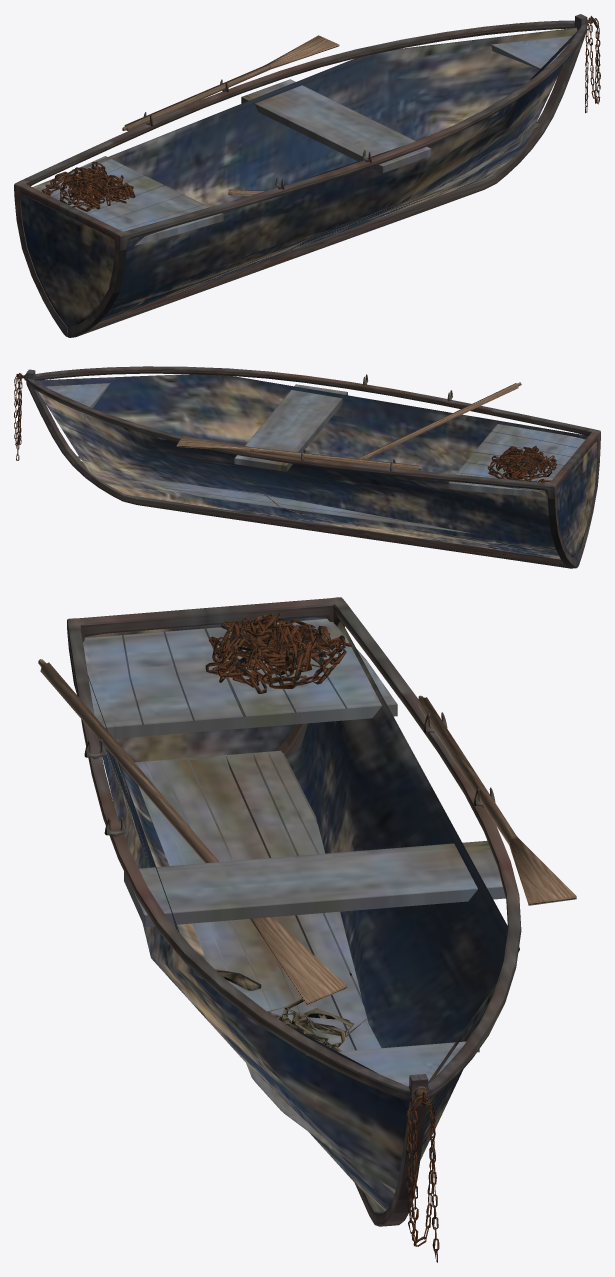
File: boat.glb
3 renders of one model, top to bottom at view 1: azimuth 30°, elevation 25°; view 2: azimuth 150°, elevation 25°; view 3: azimuth 270°, elevation 25°, orthographic. The views are drawn at different scales.
Visible parts, largest first — view 1: PaintedWood_main_body_2, Rust_metal_10, top_plank_1, back_3, Pile_Of_uc1ufamhx_chain_1 _8, hand_pedal_4, Rusty_Hanging_wcwsfhodw_front_chain _11; view 2: PaintedWood_main_body_2, Rust_metal_10, top_plank_1, back_3, Bottom_plank_0, Pile_Of_uc1ufamhx_chain_1 _8, hand_pedal_4, handel.001_6, Rusty_Hanging_wcwsfhodw_front_chain _11; view 3: PaintedWood_main_body_2, top_plank_1, Bottom_plank_0, Rust_metal_10, Pile_Of_uc1ufamhx_chain_1 _8, handel.001_6, back_3, hand_pedal_4, Rusty_Hanging_wcwsfhodw_front_chain _11, rope_12.
Boxes of the visible parts, left/top/right/bottom form: PaintedWood_main_body_2: left=32, top=27, right=579, bottom=322; Rust_metal_10: left=14, top=14, right=587, bottom=337; top_plank_1: left=36, top=36, right=571, bottom=245; back_3: left=20, top=195, right=114, bottom=327; Pile_Of_uc1ufamhx_chain_1 _8: left=41, top=161, right=135, bottom=211; hand_pedal_4: left=122, top=35, right=339, bottom=131; Rusty_Hanging_wcwsfhodw_front_chain _11: left=585, top=17, right=600, bottom=113; PaintedWood_main_body_2: left=34, top=374, right=588, bottom=559; Rust_metal_10: left=26, top=366, right=600, bottom=568; top_plank_1: left=38, top=383, right=585, bottom=497; back_3: left=556, top=441, right=597, bottom=559; Bottom_plank_0: left=75, top=456, right=472, bottom=533; Pile_Of_uc1ufamhx_chain_1 _8: left=487, top=446, right=556, bottom=487; hand_pedal_4: left=176, top=435, right=421, bottom=471; handel.001_6: left=354, top=382, right=521, bottom=464; Rusty_Hanging_wcwsfhodw_front_chain _11: left=14, top=373, right=22, bottom=460; PaintedWood_main_body_2: left=88, top=621, right=519, bottom=1212; top_plank_1: left=83, top=618, right=505, bottom=1086; Bottom_plank_0: left=135, top=750, right=395, bottom=1193; Rust_metal_10: left=67, top=597, right=521, bottom=1226; Pile_Of_uc1ufamhx_chain_1 _8: left=205, top=612, right=351, bottom=693; handel.001_6: left=38, top=659, right=347, bottom=1005; back_3: left=85, top=617, right=325, bottom=762; hand_pedal_4: left=418, top=695, right=576, bottom=905; Rusty_Hanging_wcwsfhodw_front_chain _11: left=406, top=1095, right=439, bottom=1262; rope_12: left=215, top=969, right=367, bottom=1051.
Bounding box in the file's own units: 53.77 × 13.12 × 24.15.
10 materials, 10 textured.
